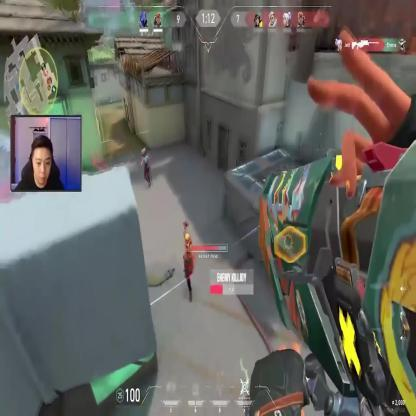enemy: (182, 228, 194, 302), (140, 146, 152, 186)
enemy_head: (184, 234, 192, 250), (141, 147, 146, 156)
